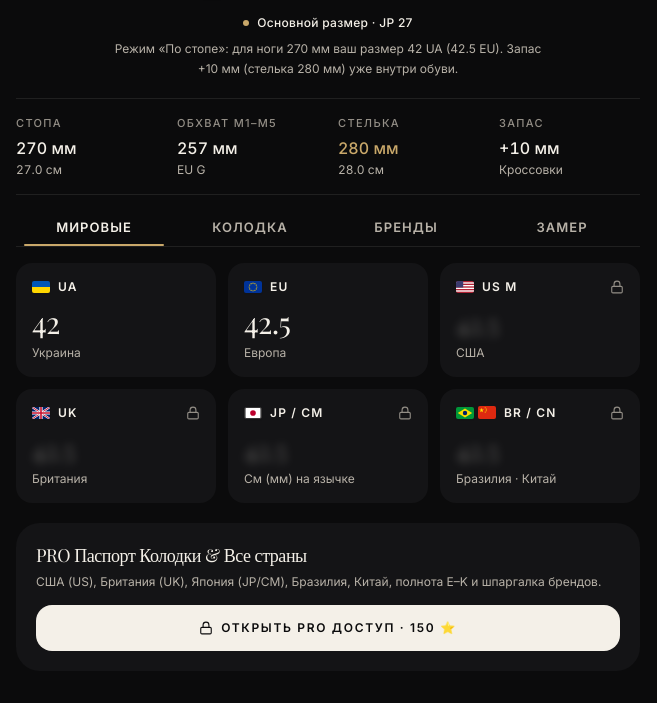
it: SizeCalcPage — интеграционные тесты › показывает ошибку при попытке оплаты PRO вне Telegram
(page scrolled)
Click the button "ОТКРЫТЬ PRO ДОСТУП · 150 ⭐️" at point(328, 628), box [36,605,620,651]
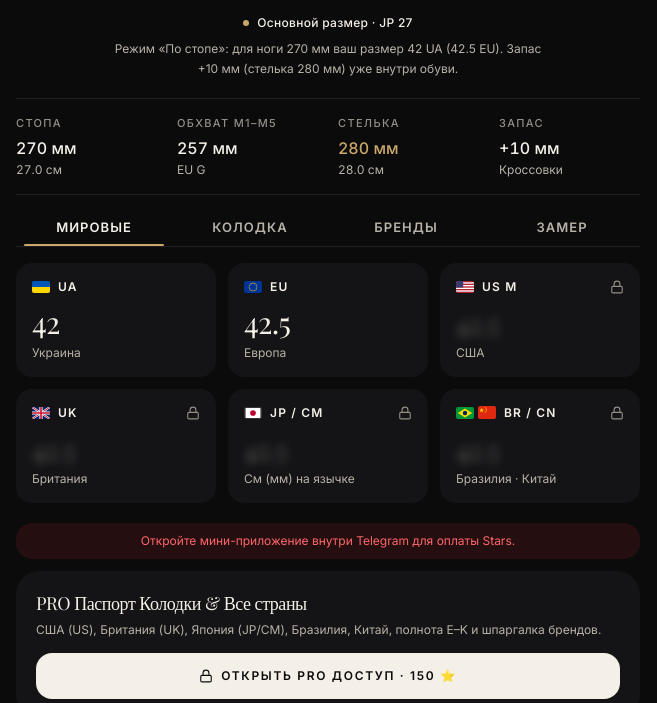
Check: the text "Откройте мини-приложение внутри Telegram для оплаты Stars." is shown, box [16,523,640,559]
